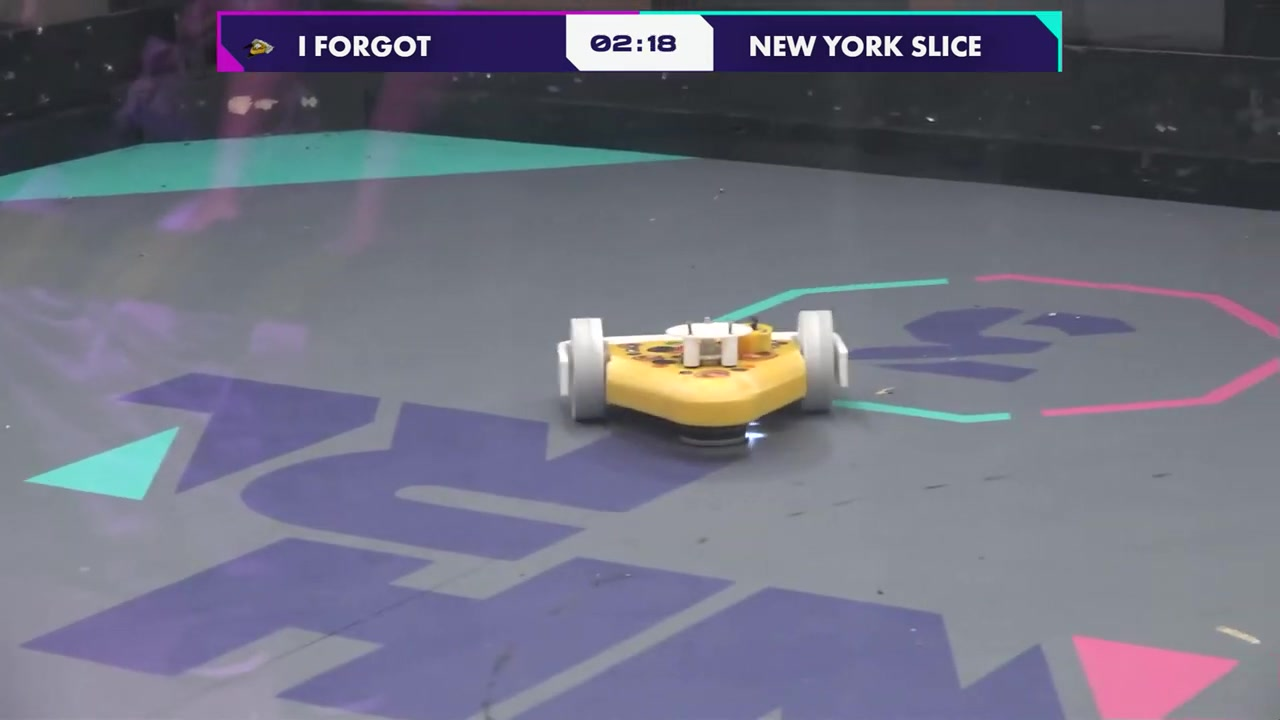combatbot: (557, 308, 849, 426)
